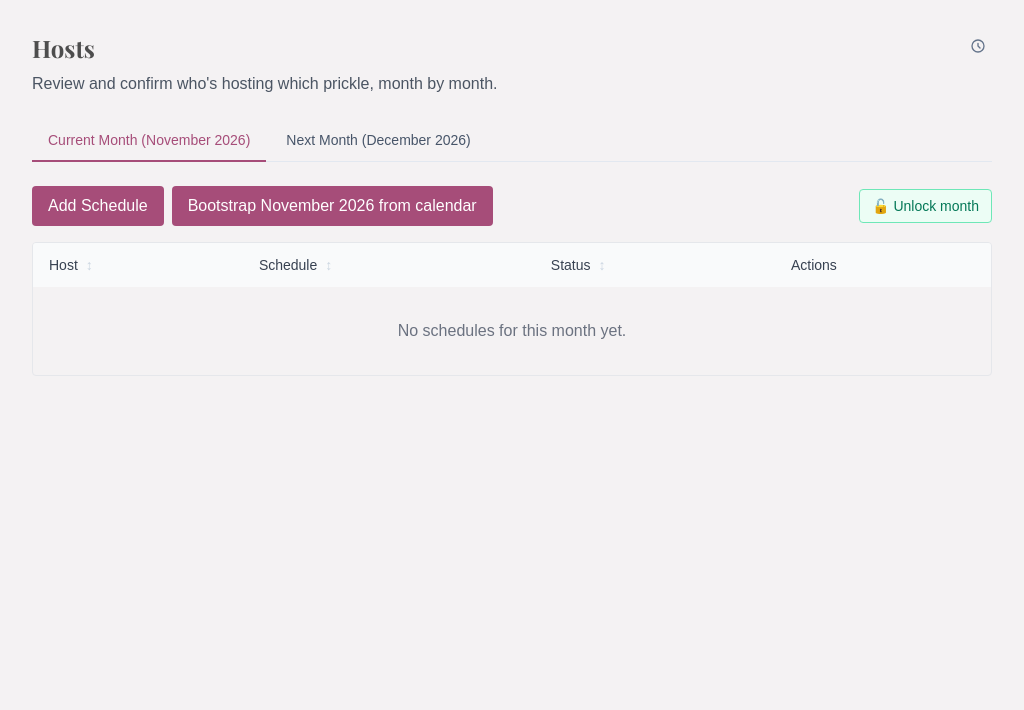
Test: HostsClient add-host eligibility warning › warns when the member has no join date on record
The width and height of the screenshot is (1024, 710).
Check: the text "No schedules for this month yet." is shown, box [33,287,991,375]
Click the button "Add Schedule" at point(98, 206), box [32,186,164,226]
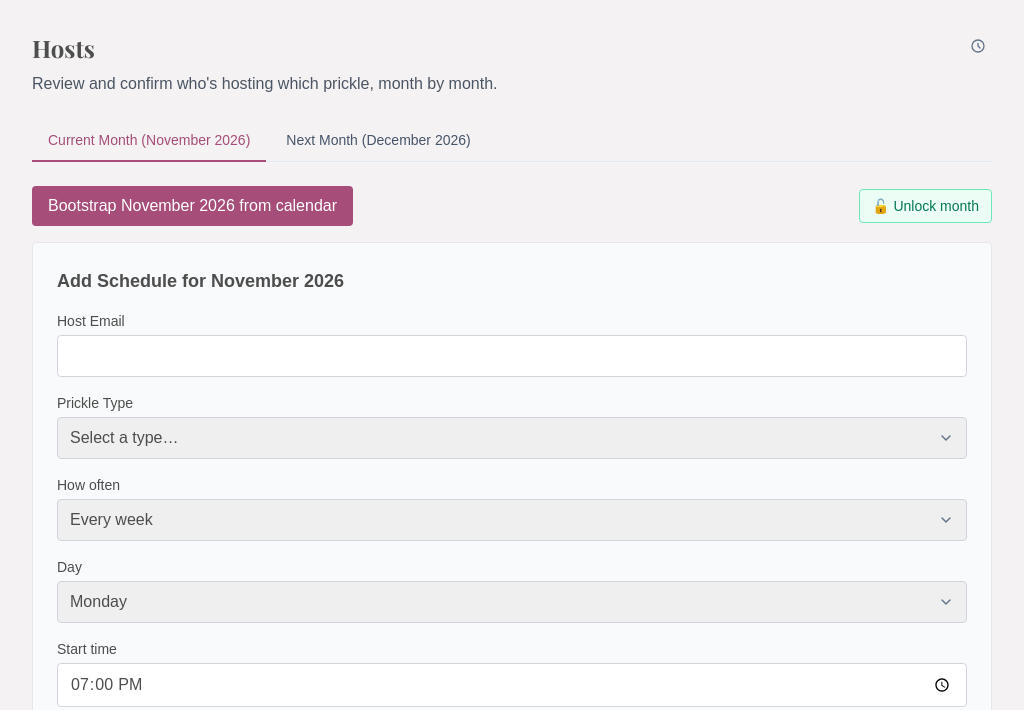
Type "nodate@example.test" into the field labelled "Host Email" at point(512, 356), box [57,335,967,377]
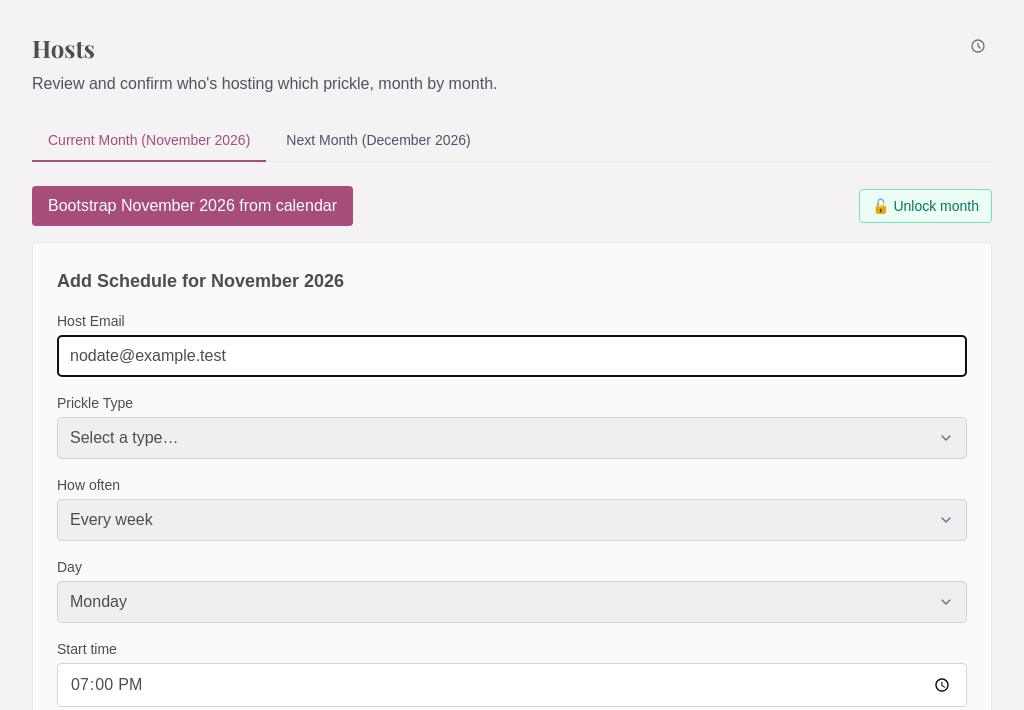
Press Tab
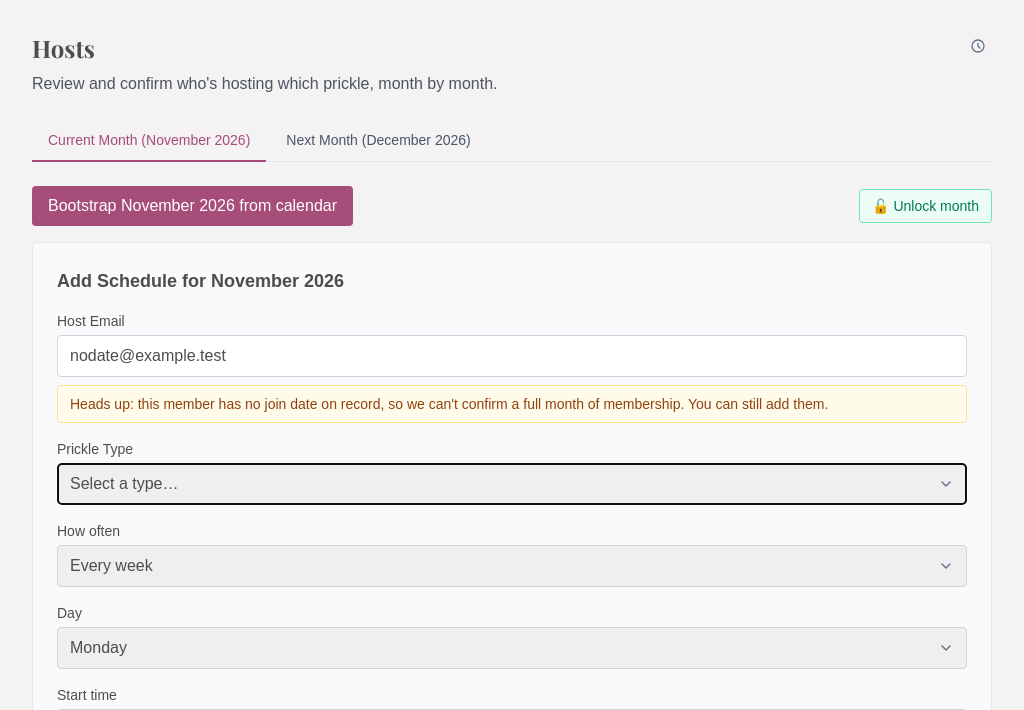
Check: the message shows "no join date on record", box [70,396,828,412]
